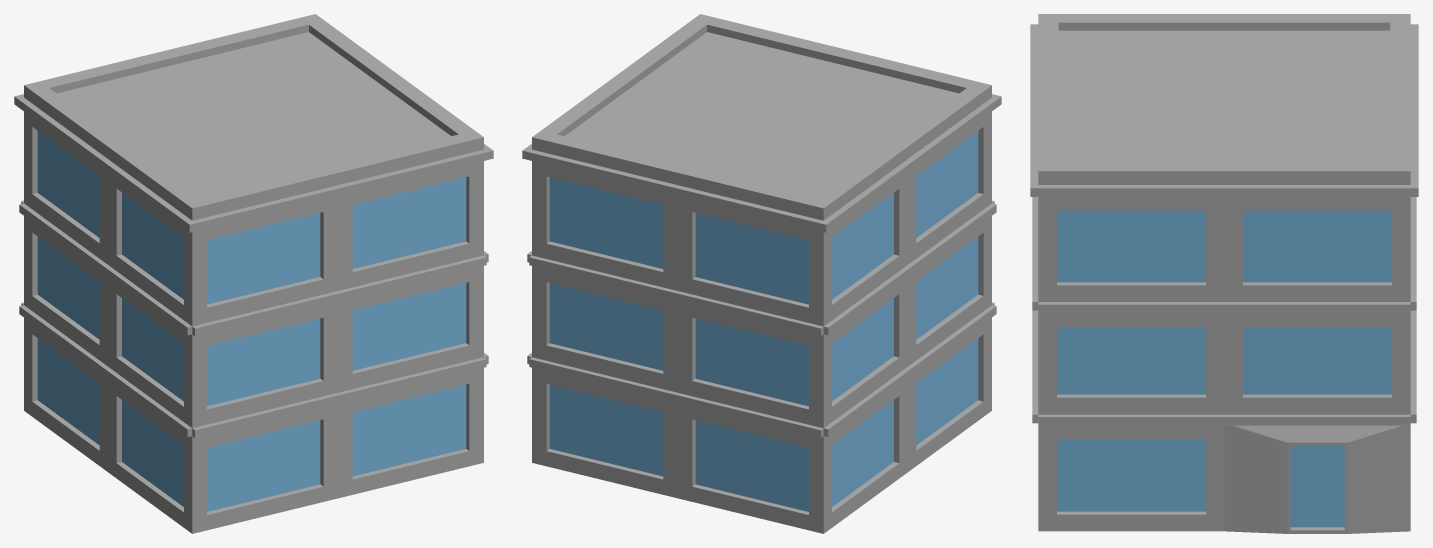
Rendered from buildings_06.fbx.
3 views of the same model, side by side, from view 1: azimuth 30°, elevation 25°; view 2: azimuth 150°, elevation 25°; view 3: azimuth 270°, elevation 25° (orthographic). The views are drawn at different scales.
Visible parts, largest first — view 1: building_001; view 2: building_001; view 3: building_001.
Boxes of the visible parts, box(x1,y1,x2,y2) form: building_001: box(14, 14, 493, 533); building_001: box(522, 14, 1001, 533); building_001: box(1030, 14, 1418, 533).
Bounding box in the file's own units: 208 × 213 × 208.
